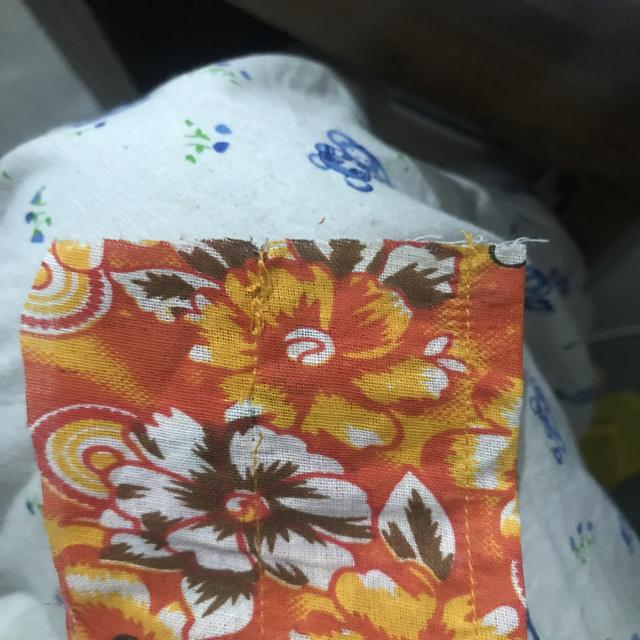broken: (220, 368, 276, 464)
